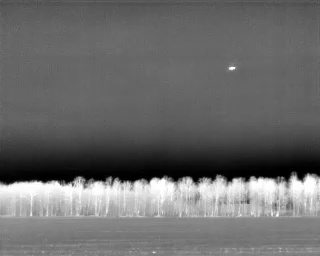DRONE: (225, 62, 239, 74)
